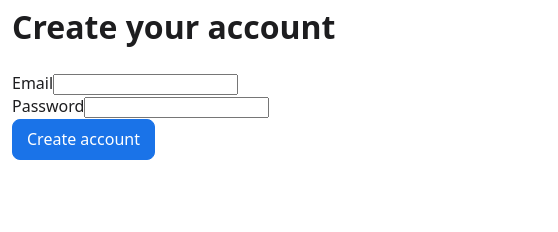
Test: rate-limit responses show a retry time (FR-030) › the sign-up form shows how long to wait
This screenshot has width=558, height=232.
Type "ana@example.com" into the field labelled "Email" at (146, 85), box [53, 74, 238, 95]
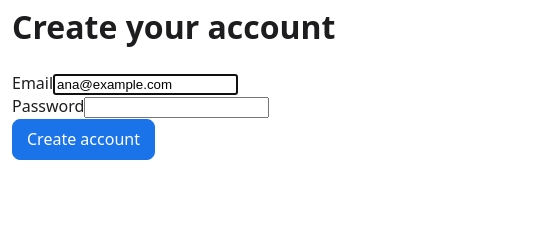
Type "correct-horse-battery-staple-42" into the password field labelled "Password" at (177, 108), box [84, 98, 269, 118]
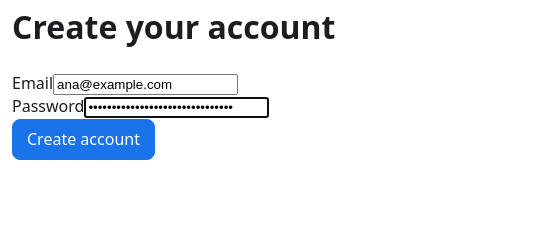
Click the button "Create account" at (83, 139), box [12, 119, 155, 160]
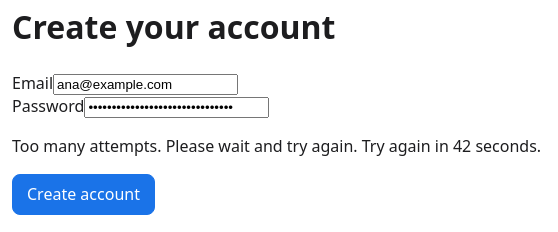
Now the message shows "Try again in 42 seconds.", box [12, 135, 541, 157]
